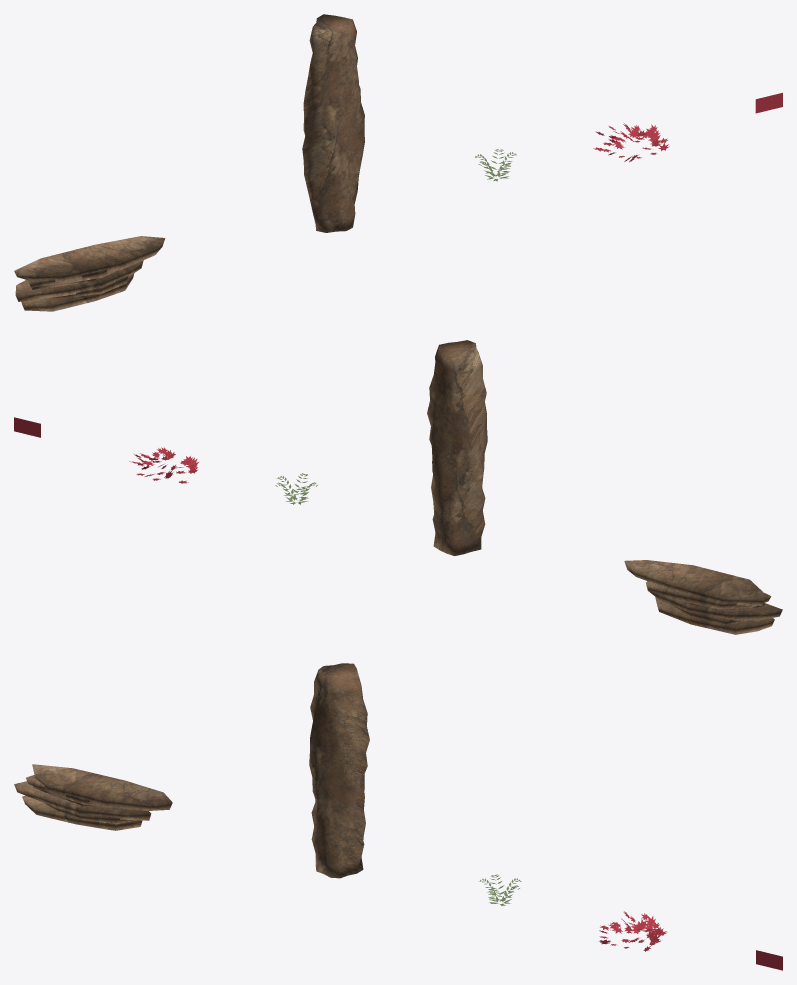
Rendered from AsuraSanctuaryDetail.glb.
3 views of the same model, one above another, from view 1: azimuth 30°, elevation 25°; view 2: azimuth 150°, elevation 25°; view 3: azimuth 330°, elevation 25° (orthographic).
Visible parts, largest first — view 1: Detail_Fissure, Detail_Strata, Detail_MapleSpray; view 2: Detail_Fissure, Detail_Strata, Detail_MapleSpray; view 3: Detail_Fissure, Detail_Strata, Detail_MapleSpray.
Boxes of the visible parts, x1=… form: Detail_Fissure: x1=302, y1=14, x2=364, y2=232; Detail_Strata: x1=14, y1=236, x2=165, y2=311; Detail_MapleSpray: x1=593, y1=123, x2=669, y2=162; Detail_Fissure: x1=427, y1=340, x2=487, y2=555; Detail_Strata: x1=624, y1=560, x2=782, y2=634; Detail_MapleSpray: x1=129, y1=447, x2=198, y2=483; Detail_Fissure: x1=309, y1=663, x2=369, y2=878; Detail_Strata: x1=14, y1=764, x2=172, y2=830; Detail_MapleSpray: x1=599, y1=911, x2=667, y2=951.
Bounding box in the file's own units: 56.74 × 14.58 × 4.6.
Materials: 3 (1 with a texture image).
